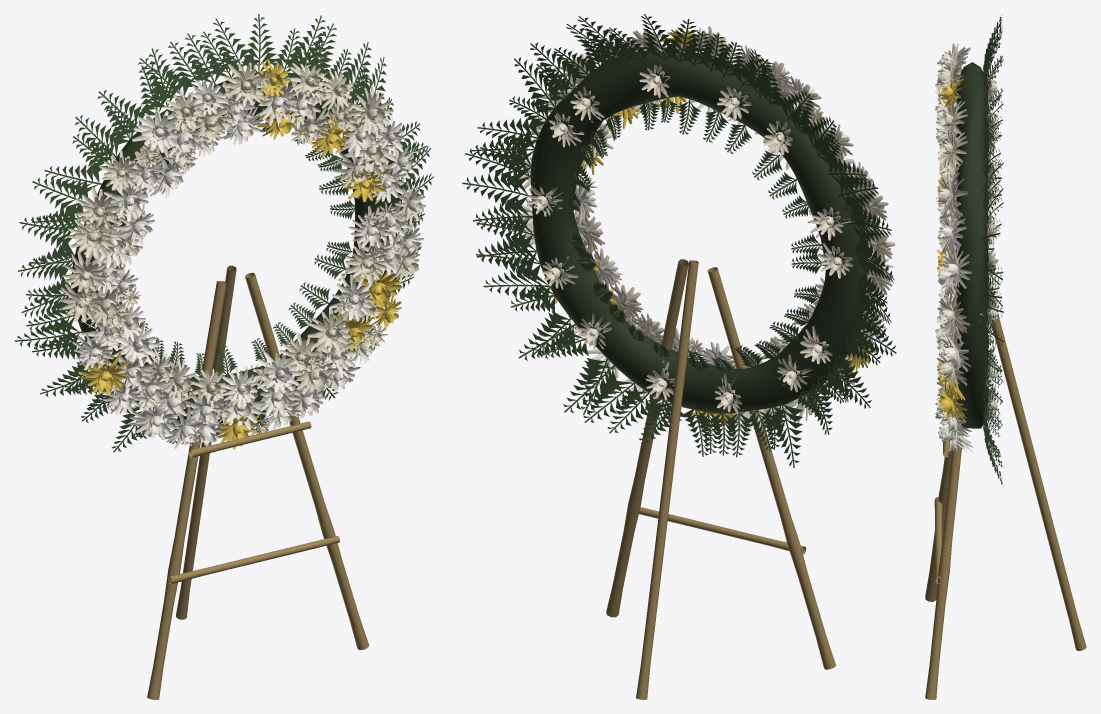
The model's file is VongHoa_HQ.glb.
The picture shows the model from 3 angles, left to right: view 1: azimuth 30°, elevation 25°; view 2: azimuth 150°, elevation 25°; view 3: azimuth 270°, elevation 25°; orthographic projection. The views are drawn at different scales.
Parts seen in each view (by area): view 1: VongHoaTang_1_HQ; view 2: VongHoaTang_1_HQ; view 3: VongHoaTang_1_HQ.
Boxes of the visible parts, bbox=[...] form: VongHoaTang_1_HQ: bbox=[14, 14, 433, 699]; VongHoaTang_1_HQ: bbox=[462, 14, 896, 699]; VongHoaTang_1_HQ: bbox=[925, 17, 1086, 699].
Size of what is drawn, in the model's own units: 1.2 by 1.72 by 0.4079.
